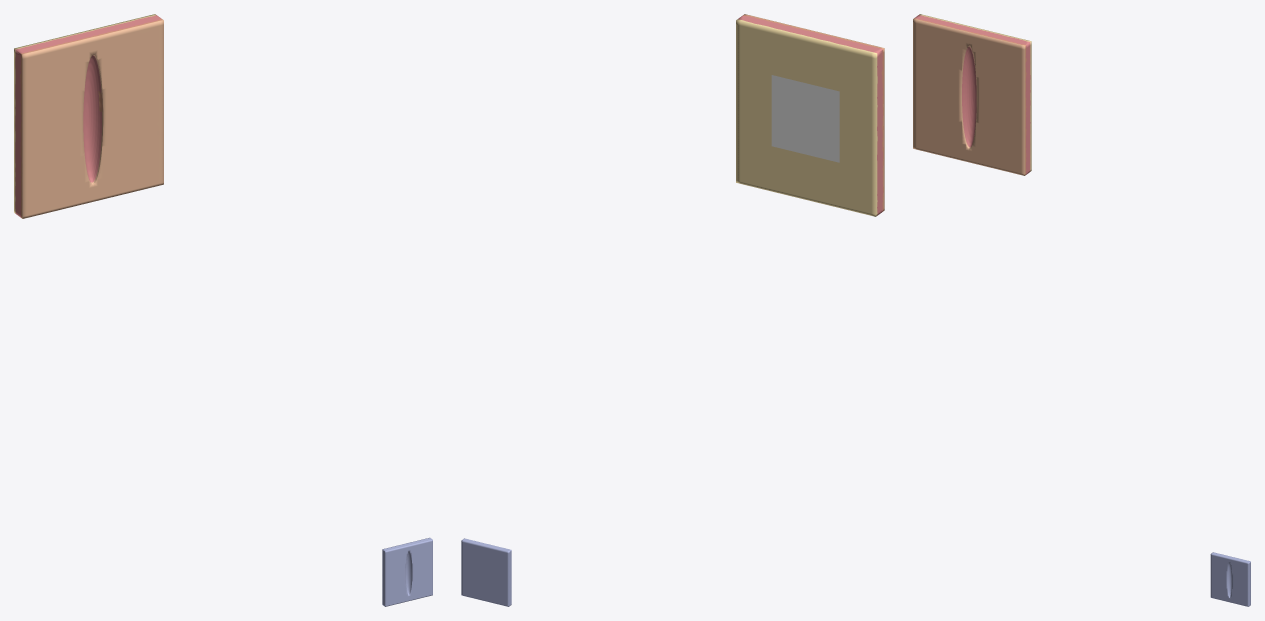
The model's file is cut.glb.
3 renders of one model, left to right at view 1: azimuth 30°, elevation 25°; view 2: azimuth 150°, elevation 25°; view 3: azimuth 330°, elevation 25°, orthographic. The views are drawn at different scales.
Visible parts, largest first — view 1: obj3, obj4, obj1, obj5; view 2: obj5, obj7, obj1, obj4; view 3: obj3, obj4, obj1, obj5.
Part boxes in pixels (<box>): obj3: <box>22,20,163,218</box>; obj4: <box>15,15,160,217</box>; obj1: <box>382,537,432,606</box>; obj5: <box>14,14,155,213</box>; obj5: <box>736,19,877,216</box>; obj7: <box>771,75,839,162</box>; obj1: <box>461,538,511,606</box>; obj4: <box>738,15,883,215</box>; obj3: <box>913,18,1025,175</box>; obj4: <box>915,15,1030,174</box>; obj1: <box>1210,552,1250,606</box>; obj5: <box>919,14,1031,171</box>.
Bounding box in the file's own units: 12.12 × 17.97 × 0.5091.
